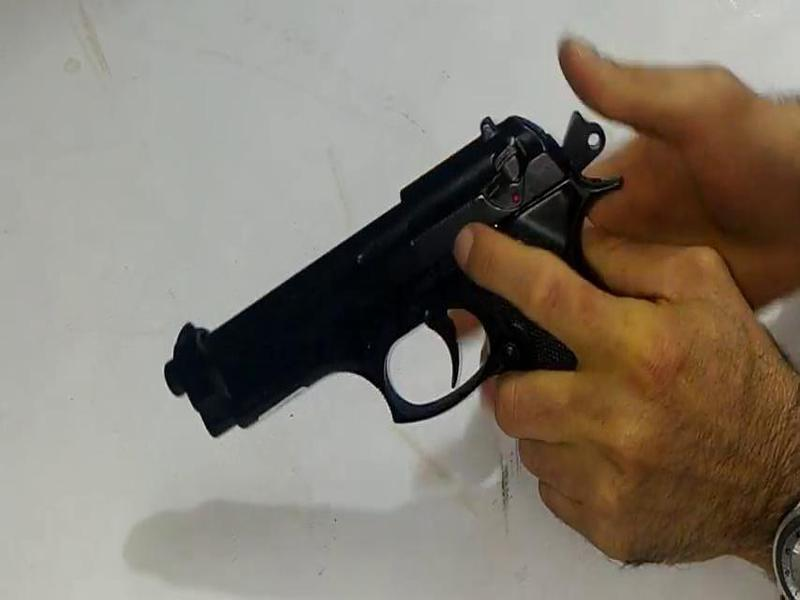Pistola: (117, 103, 630, 424)
